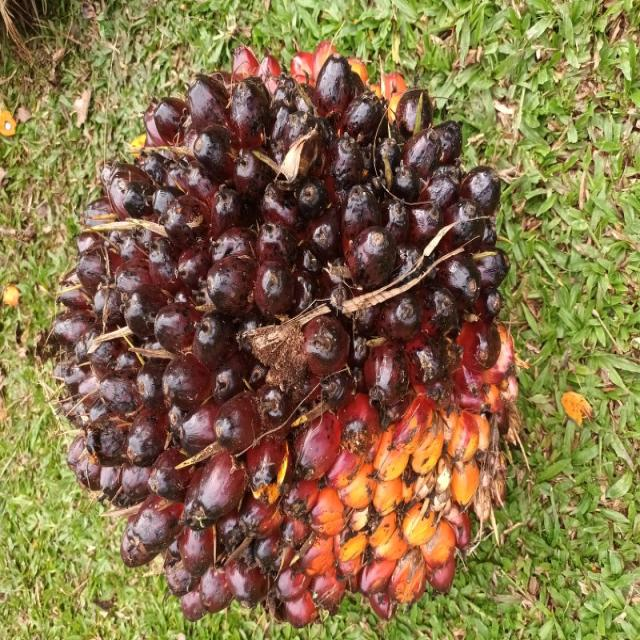fraksi 1: (19, 27, 443, 640)
